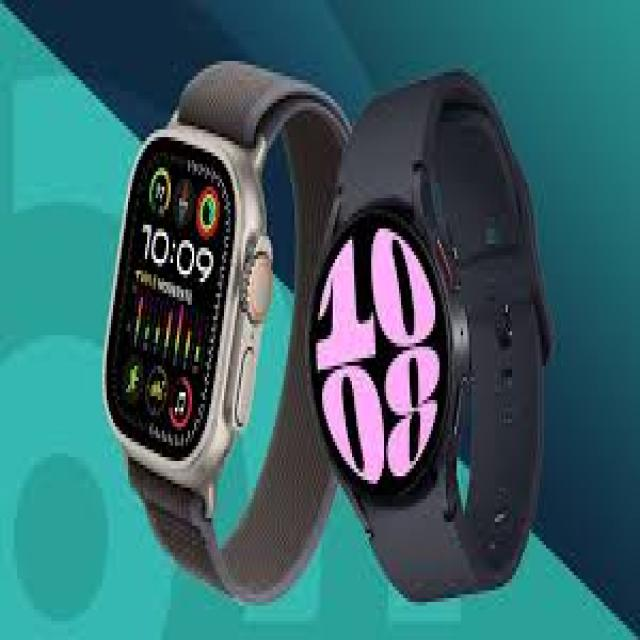objects: (107, 61, 348, 598), (309, 72, 550, 598), (105, 126, 269, 495), (311, 198, 467, 499)
